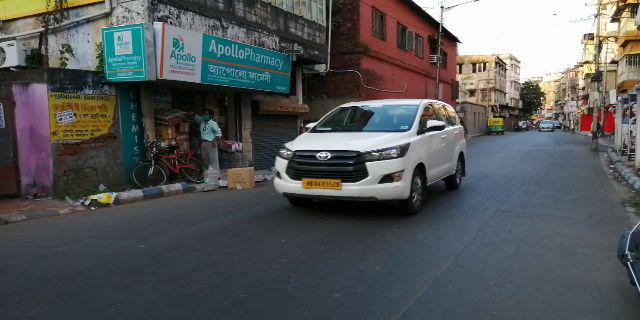Autorickshaw: (484, 116, 507, 140)
Car: (271, 95, 471, 213)
Cycle: (132, 138, 208, 191)
